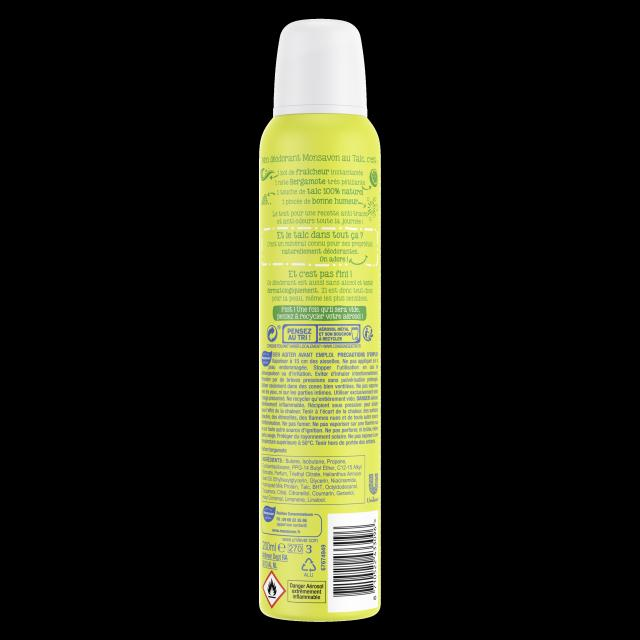GHS_Symbol_FLAME: (261, 570, 286, 610)
